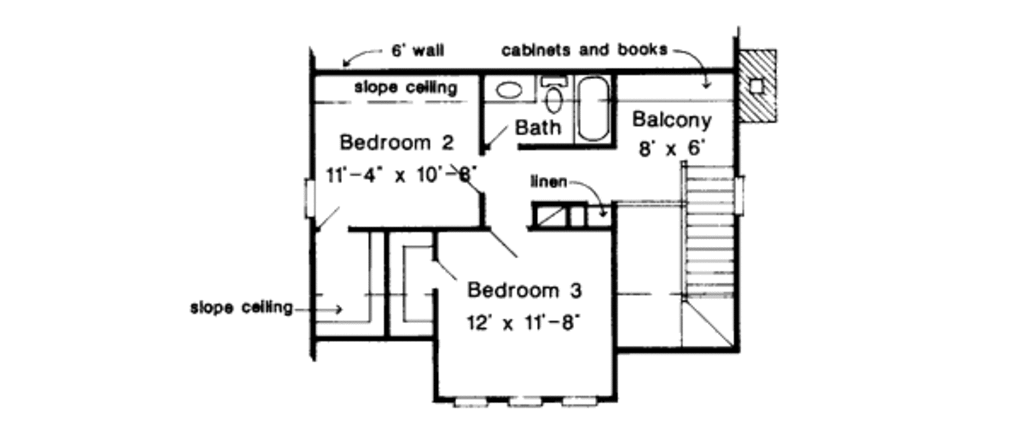large_sink: (541, 77, 566, 118)
small_sink: (476, 74, 538, 104)
stairs: (682, 157, 734, 308)
tub: (576, 78, 609, 151)
window: (453, 396, 600, 406), (302, 176, 322, 224), (736, 174, 745, 219)
